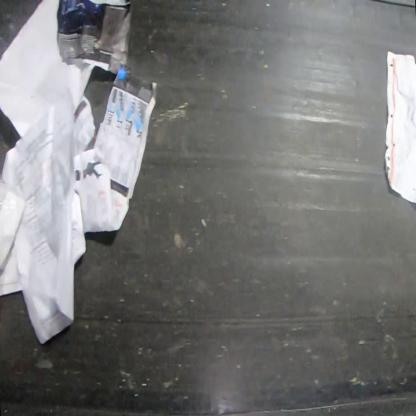soft_plastic: (0, 180, 27, 278)
